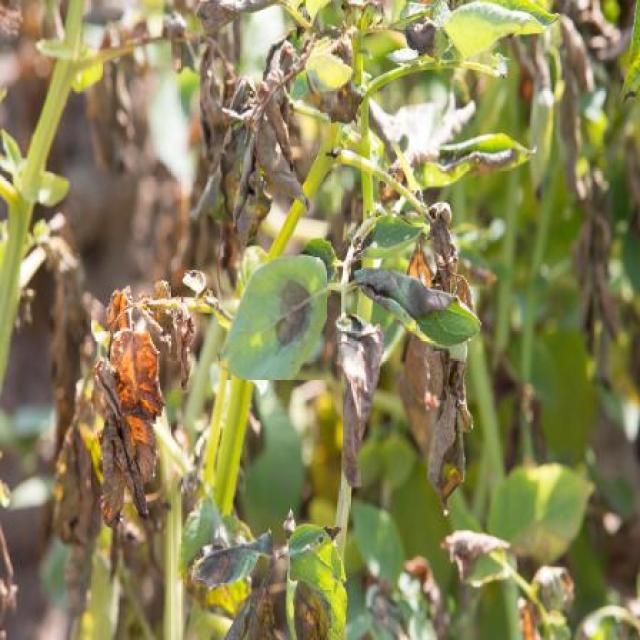Late Blight: (219, 258, 327, 380)
